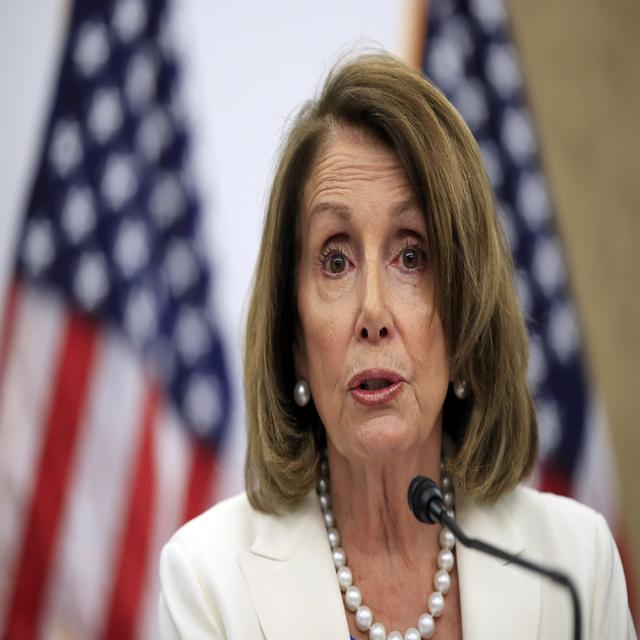human: (148, 59, 640, 640)
